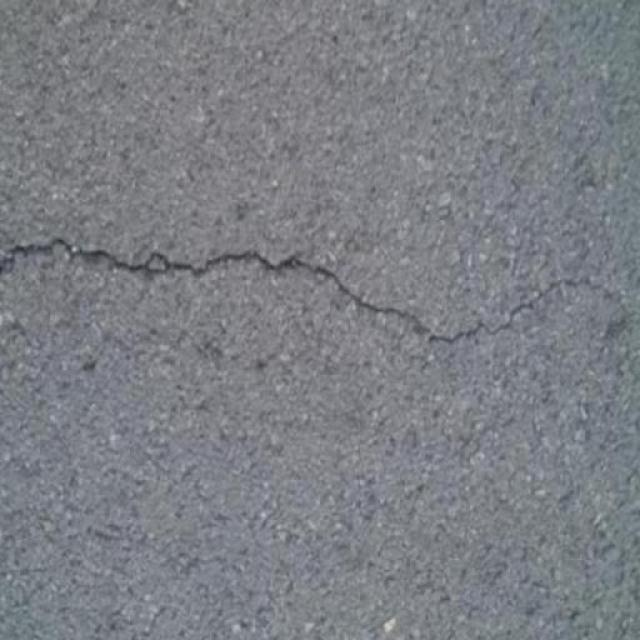Crack: (0, 219, 624, 353)
